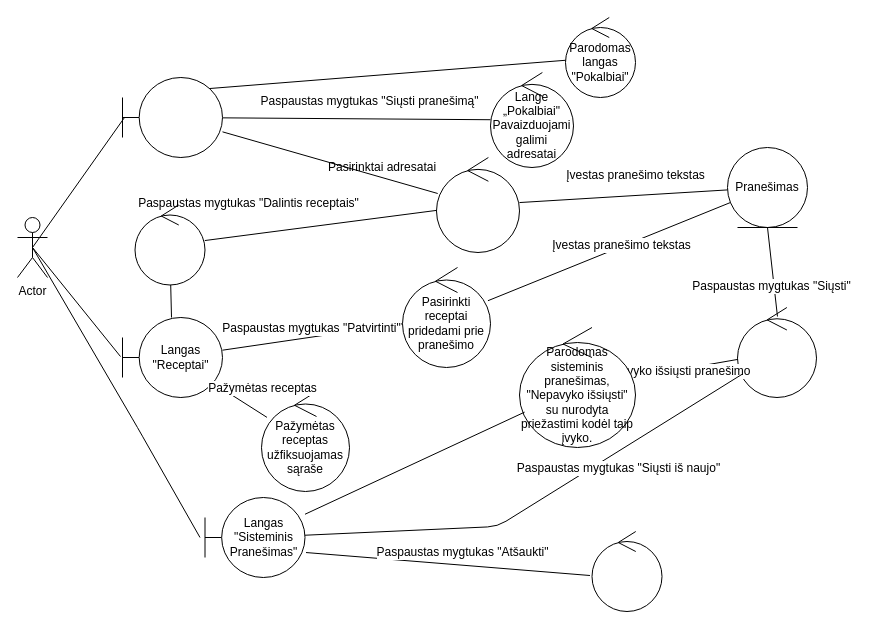
The diagram is 869 pixels wide and 629 high, and some of its shapes have lost their labels. Here are the shapes that lost their labels. From the top down, the centre of each, then its label:
(172,117): Langas "Pokalbiai"
(478,204): Priskiriami adresatai
(169,244): Atidaromas langas "Receptai"
(776,352): Pranešimas išsiunčiamas gavėjui
(626,571): Uždaromas langas "Sisteminis Pranešimas"
